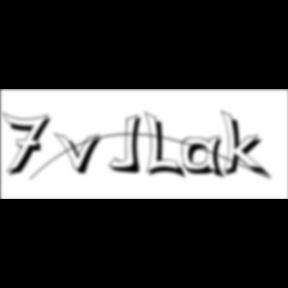7: (3, 111, 58, 179)
J: (108, 114, 148, 176)
L: (145, 110, 189, 182)
a: (182, 135, 230, 182)
k: (220, 108, 274, 181)
v: (54, 131, 108, 177)
